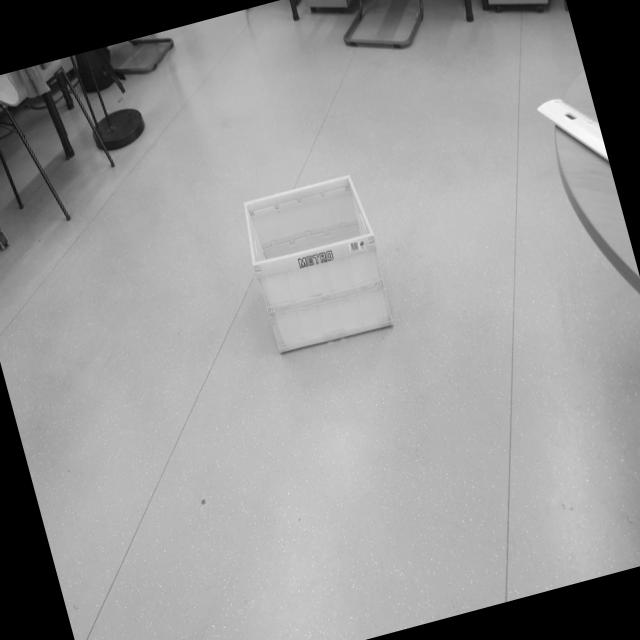box: (228, 152, 408, 378)
